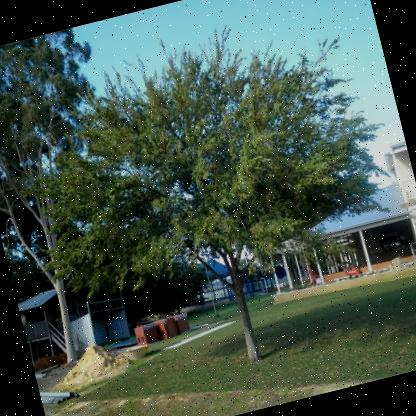tree: (4, 0, 416, 408)
